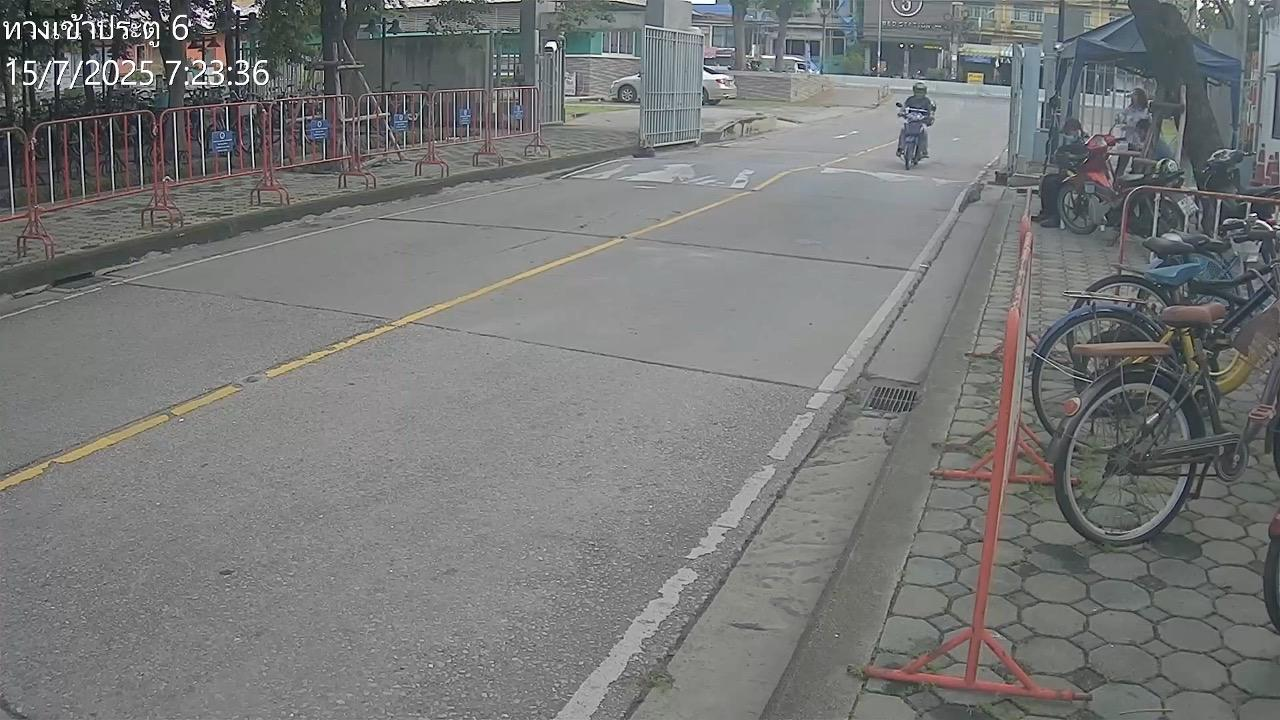With-Helmet: (913, 81, 927, 98)
